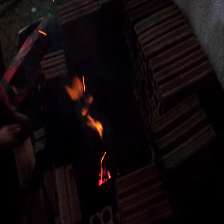fire_h: (98, 152, 111, 188), (66, 76, 85, 100)
fire_l: (88, 114, 102, 138), (39, 29, 47, 36), (81, 108, 87, 116), (89, 97, 93, 103)
